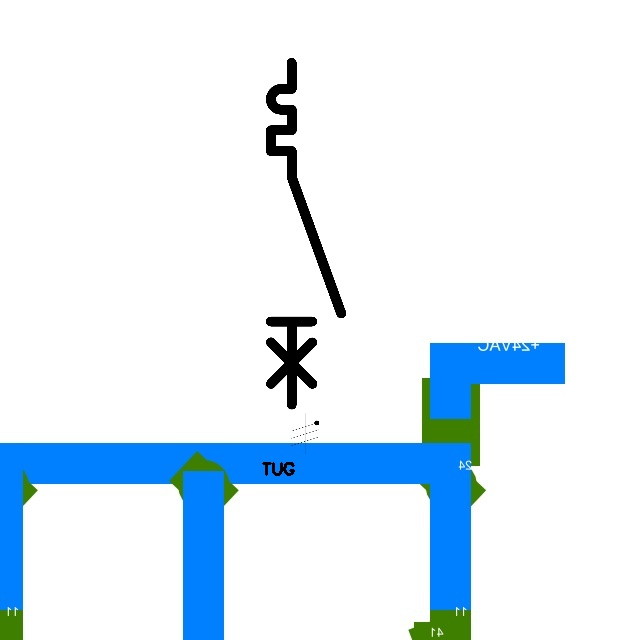interruptor_termomagnetico: (262, 54, 350, 413)
